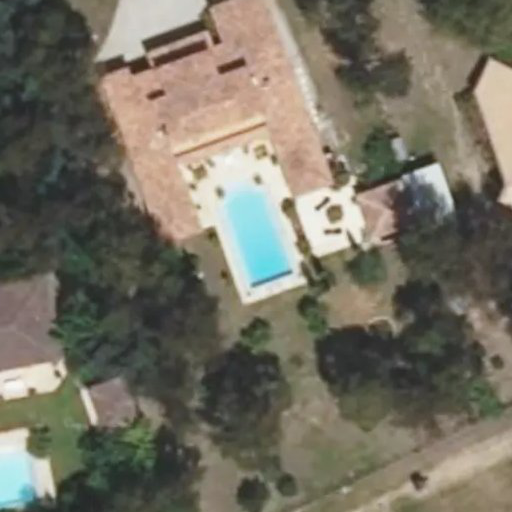pool: (215, 204, 297, 279)
